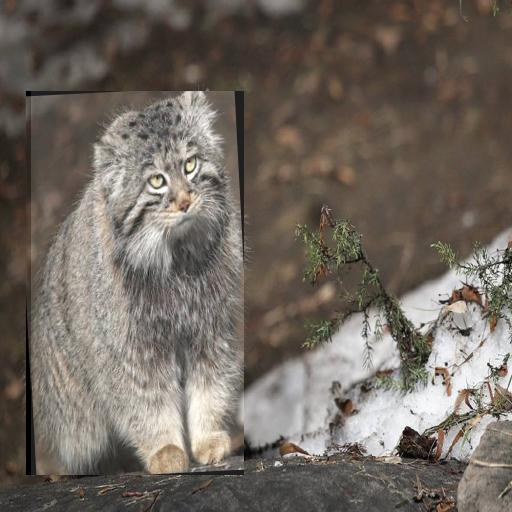manul: (31, 91, 243, 475)
